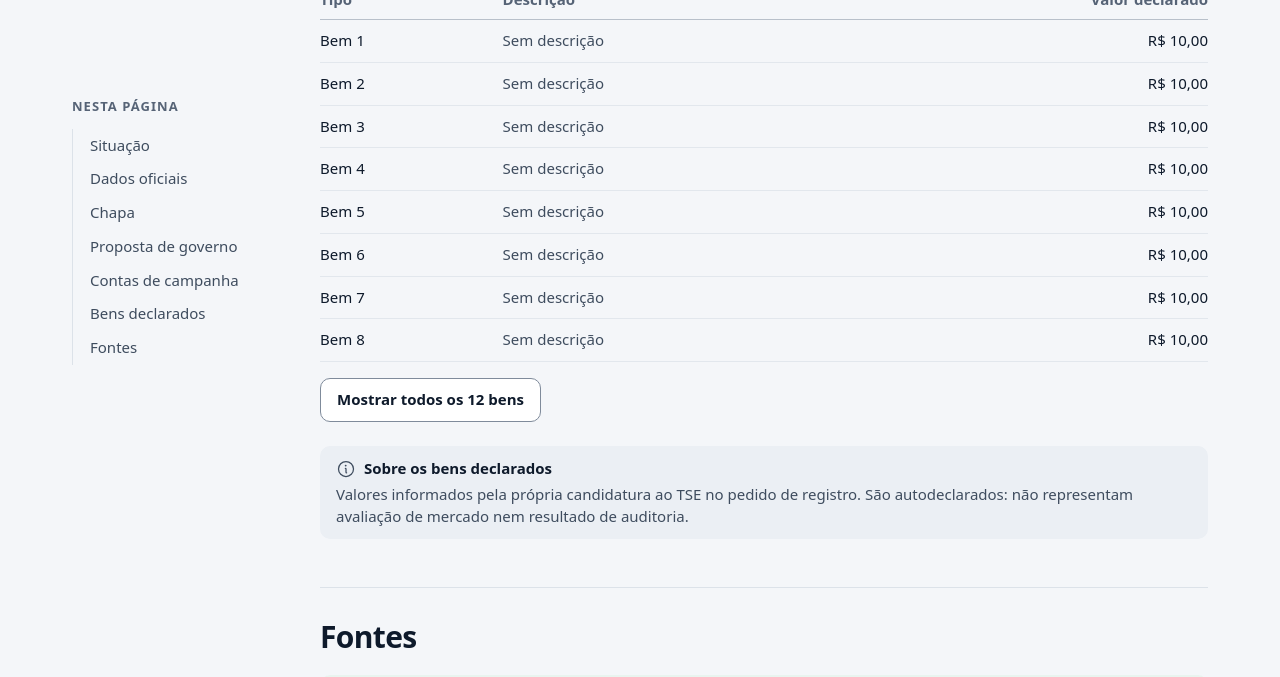
it: CandidacyPage › mostra todos os bens sob demanda
(page scrolled)
Click the button "Mostrar todos os 12 bens".
click(430, 400)  # box [320,378,541,422]
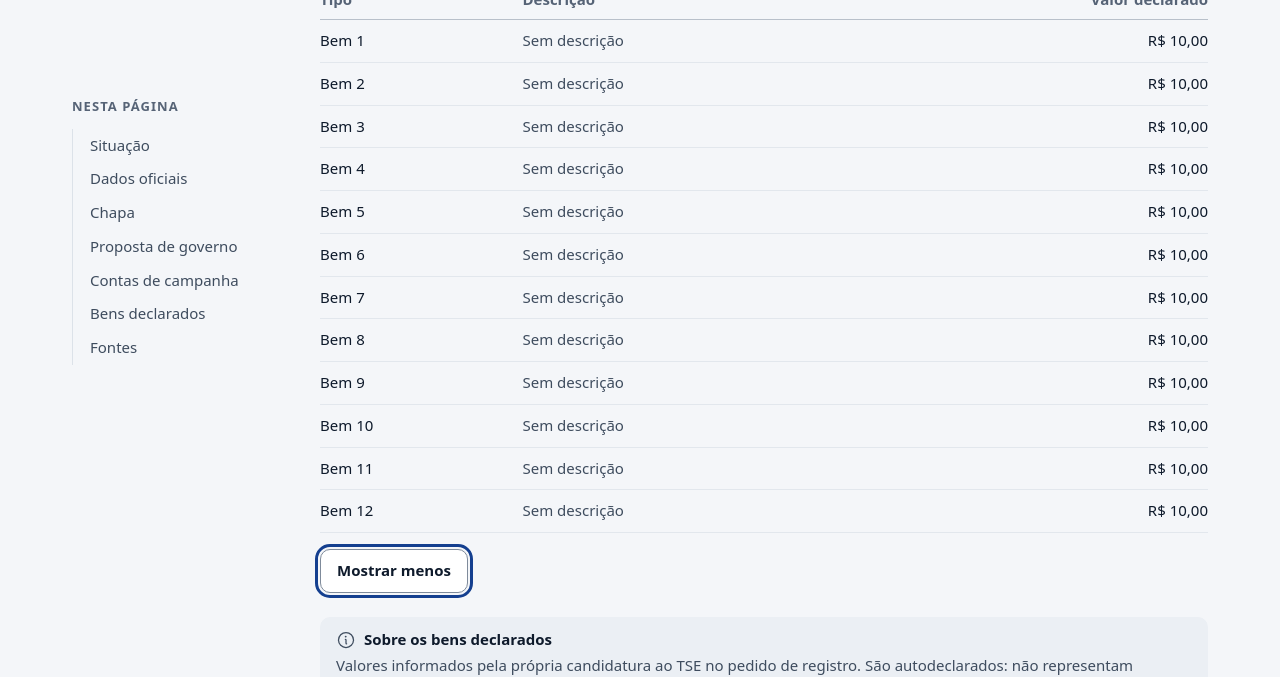
Check: the number of rows is 13
